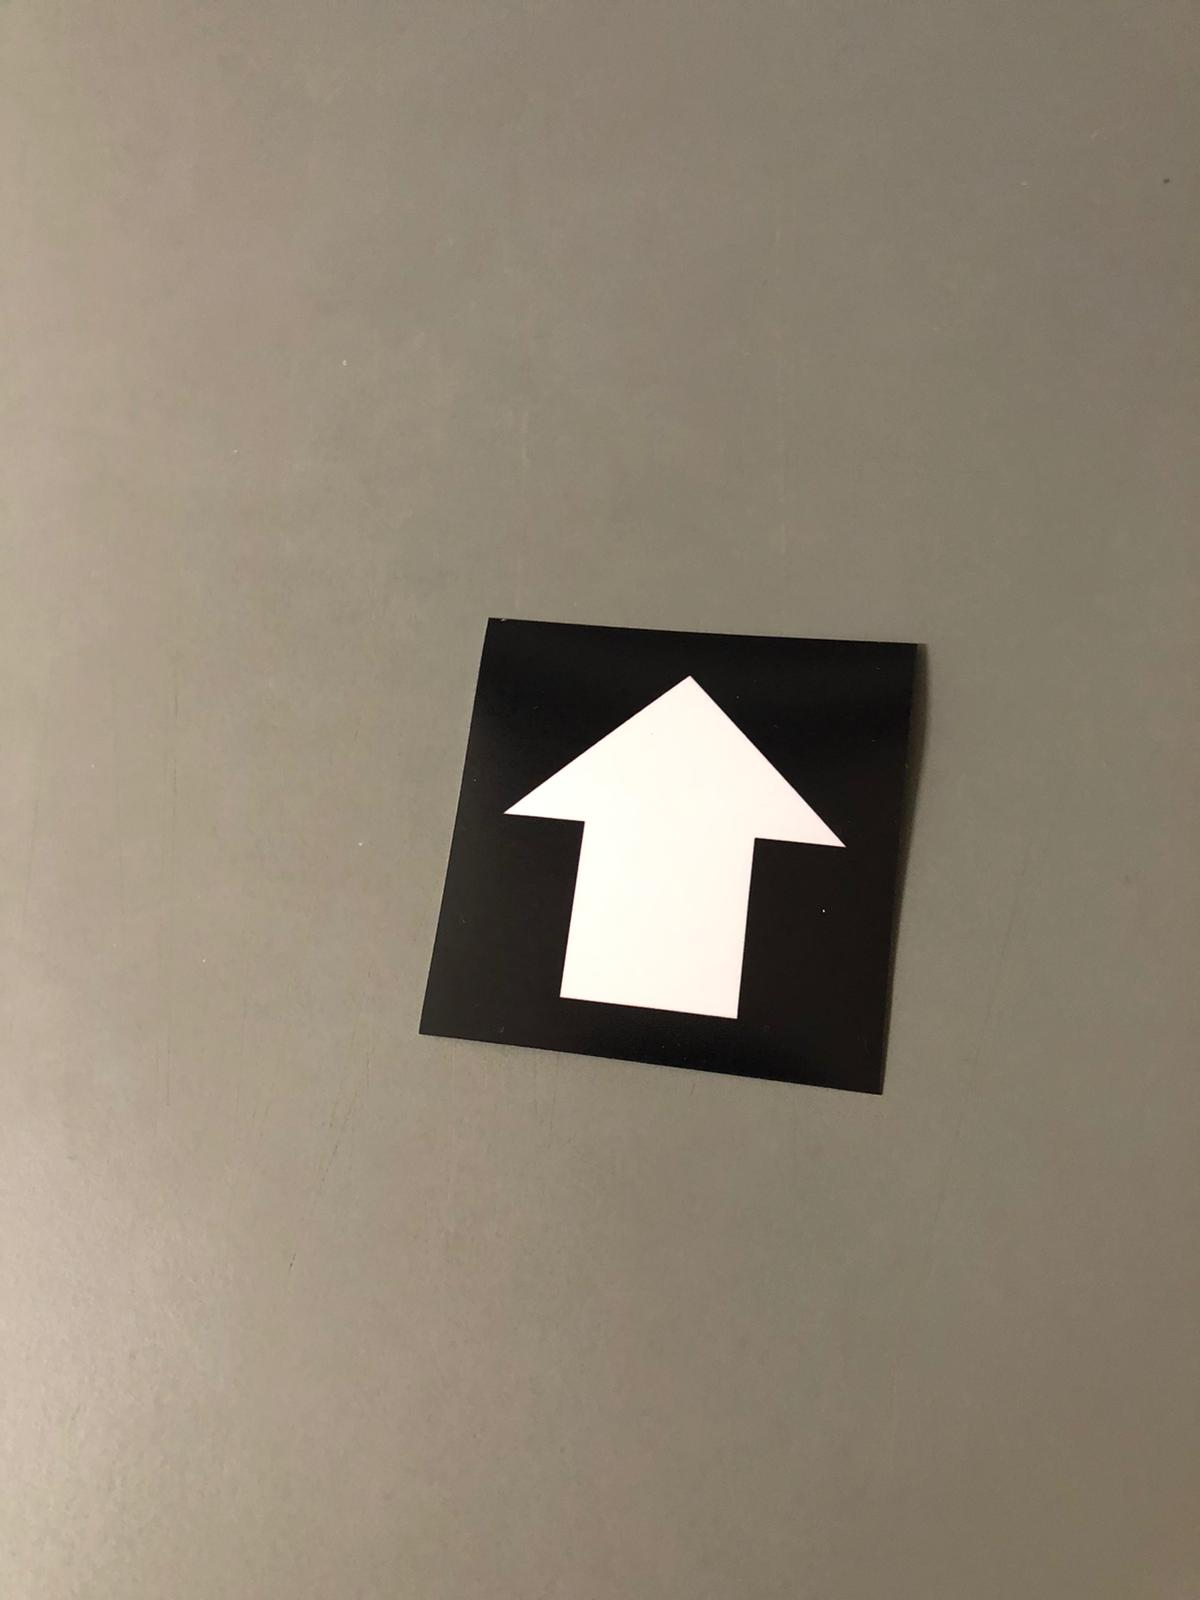Top Arrow: (493, 619, 876, 1056)
